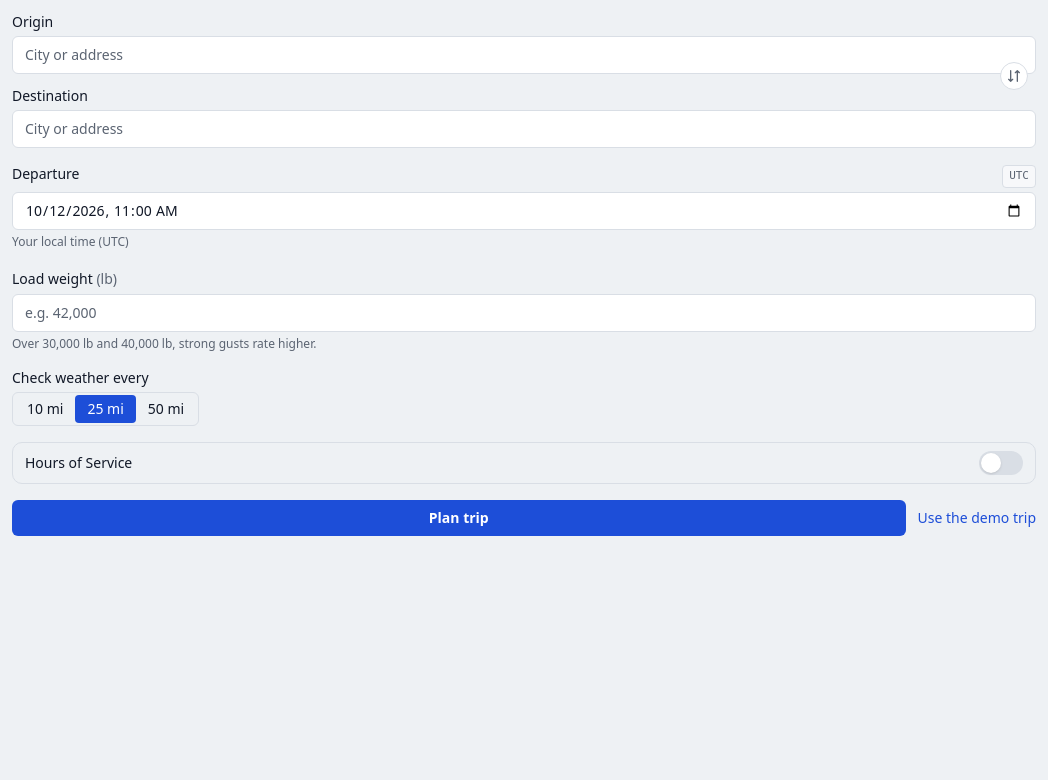
Scenario: Hours of Service fields › cap a 70 h cycle value when switching to 60 h, and say so
Step 1. Click the switch named "Hours of Service" → (1001, 462), box [979,450,1023,474]
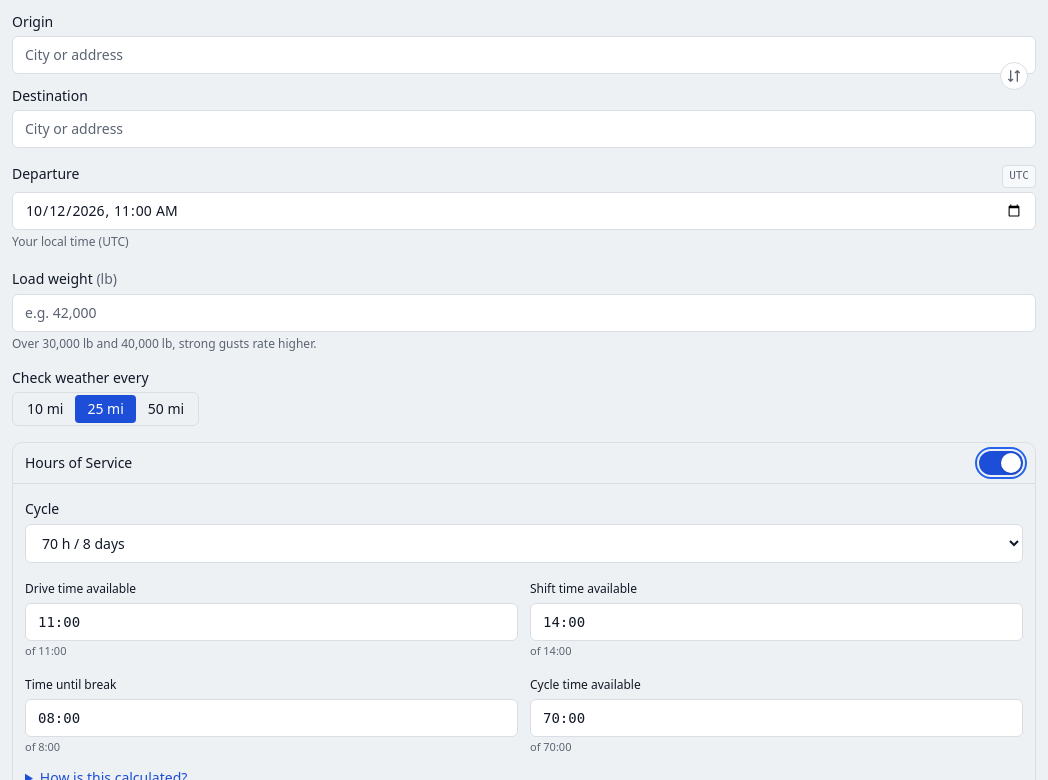
Step 2. Select "60 h / 7 days" in the dropdown labelled "Cycle" → (524, 543), box [25,524,1023,562]
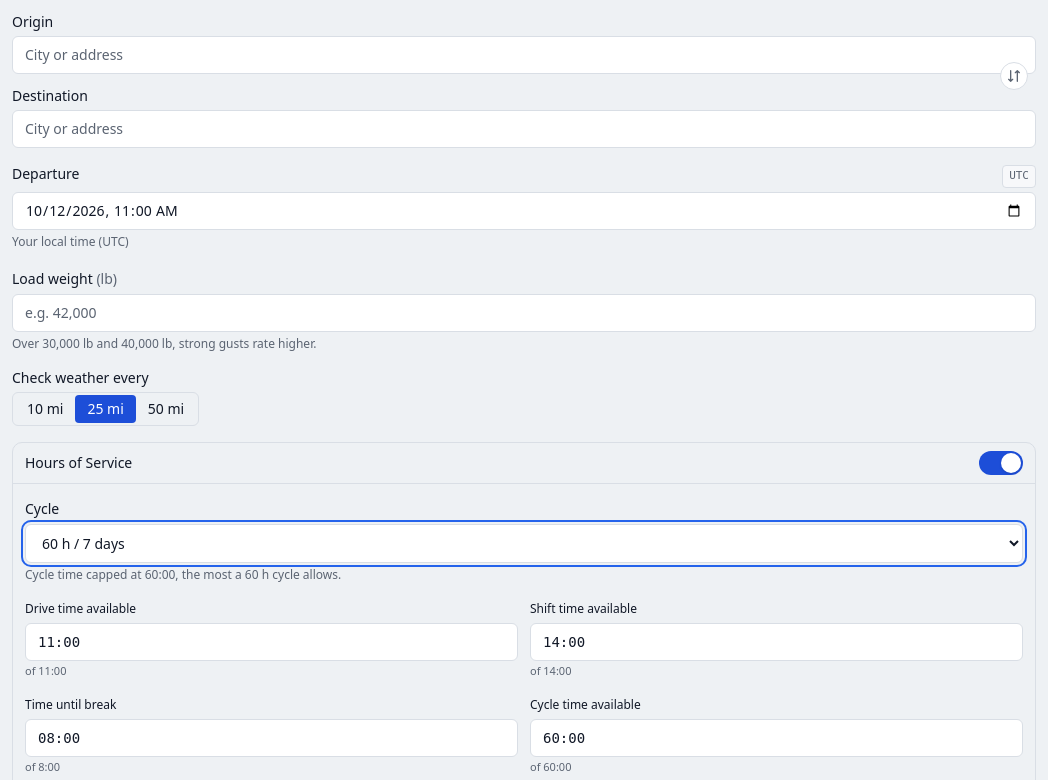
Now the field labelled "Cycle time available" holds "60:00", box [530,719,1023,757]
Now the message shows "Cycle time capped at 60:00", box [25,566,341,582]
Now the text "of 60:00" is shown, box [530,759,572,774]
